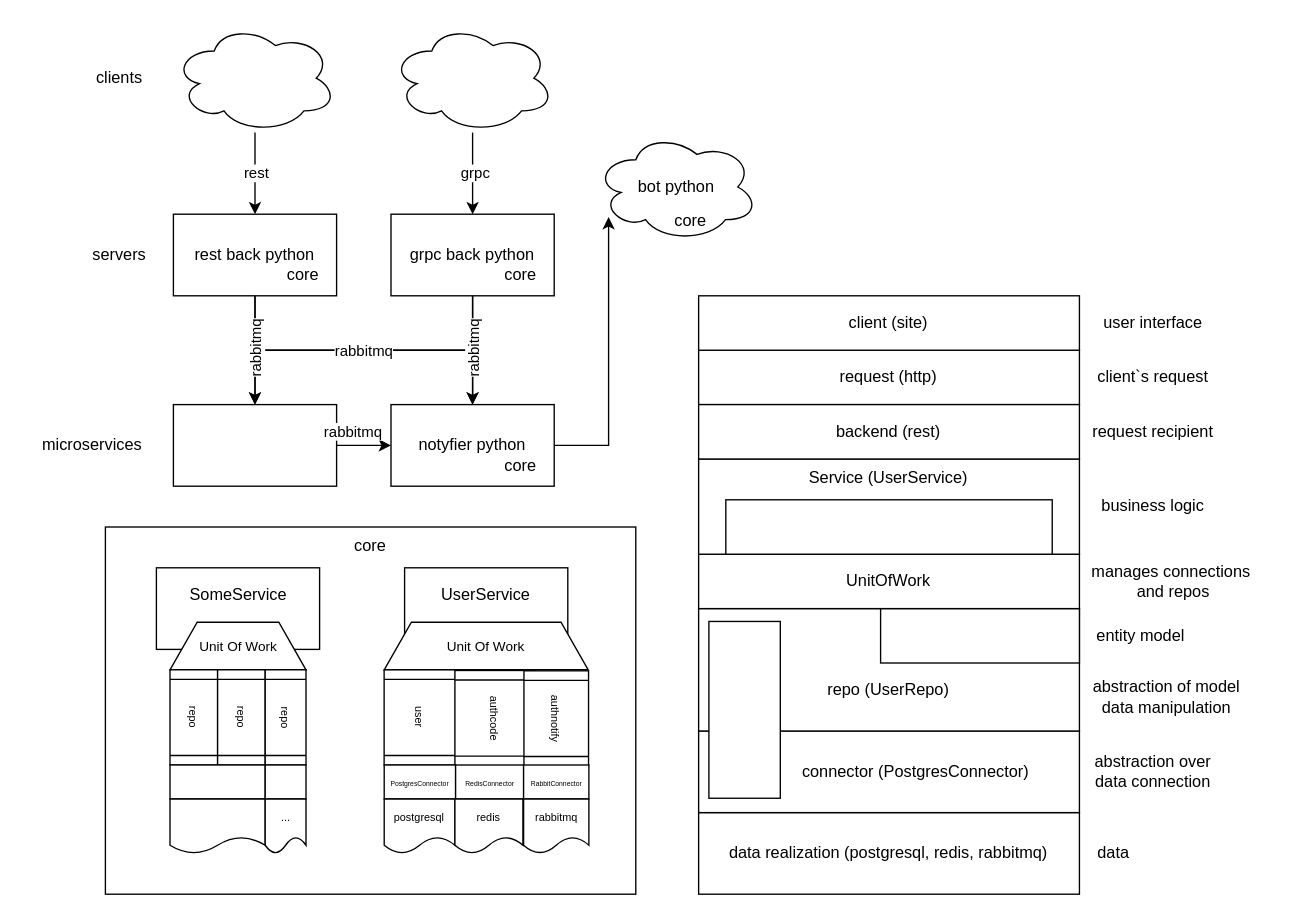
Some shapes in this 1291 by 918 pixel diagram are drawn without their labels. Each missing label, with the centre of its shape:
cli rust: [472,77]
conn...: [285,781]
connector: [217,781]
data realization: [217,825]
frontend vue: [254,77]
lib (sqlalchemy, ...): [744,709]
model (UserModel): [979,635]
serviceMethod (login): [888,526]
sheduler go: [254,444]
